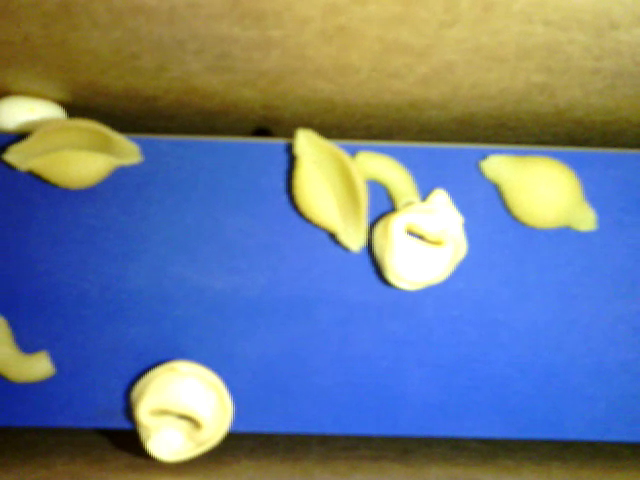elbow: (354, 148, 420, 207), (1, 316, 57, 383)
shell: (288, 126, 371, 254), (2, 120, 144, 191), (479, 152, 598, 232)
tortellini: (129, 359, 234, 461), (370, 185, 469, 292)
